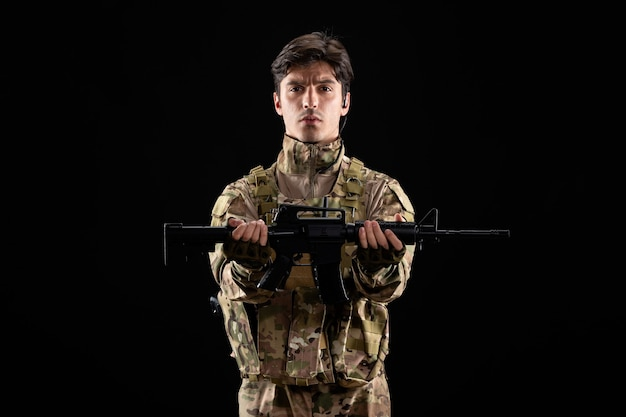gun: (162, 202, 512, 307)
